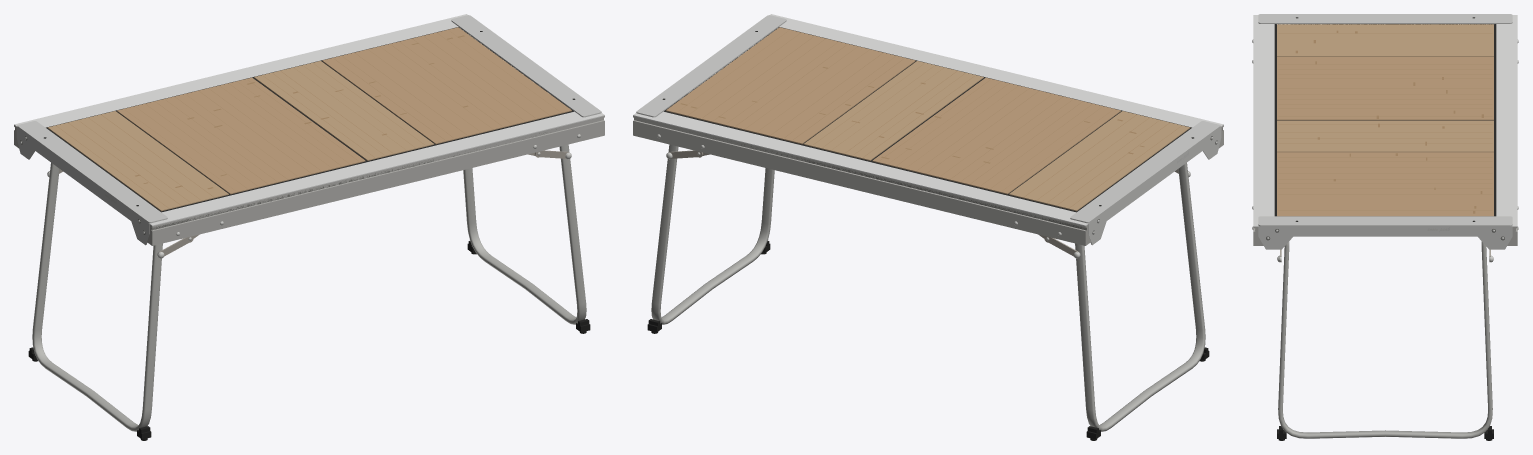
The model's file is snowpeak-entry-igt.glb.
3 views of the same model, side by side, from view 1: azimuth 30°, elevation 25°; view 2: azimuth 150°, elevation 25°; view 3: azimuth 270°, elevation 25° (orthographic). The views are drawn at different scales.
Visible parts, largest first — view 1: snowpeak-entry-igt-board, snowpeak-entry-igt-board_light, snowpeak-entry-igt-rail_top, snowpeak-entry-igt-rail, snowpeak-entry-igt-leg, snowpeak-entry-igt-plate, snowpeak-entry-igt-grain, snowpeak-entry-igt-hole, snowpeak-entry-igt-groove; view 2: snowpeak-entry-igt-board, snowpeak-entry-igt-board_light, snowpeak-entry-igt-rail_top, snowpeak-entry-igt-rail, snowpeak-entry-igt-leg, snowpeak-entry-igt-plate, snowpeak-entry-igt-grain, snowpeak-entry-igt-hole, snowpeak-entry-igt-groove; view 3: snowpeak-entry-igt-board, snowpeak-entry-igt-board_light, snowpeak-entry-igt-rail_top, snowpeak-entry-igt-plate, snowpeak-entry-igt-grain, snowpeak-entry-igt-leg, snowpeak-entry-igt-hole, snowpeak-entry-igt-rail.
Part boxes in pixels (bbox=[...]): snowpeak-entry-igt-board: bbox=[117, 27, 571, 194]; snowpeak-entry-igt-board_light: bbox=[47, 61, 434, 211]; snowpeak-entry-igt-rail_top: bbox=[14, 14, 604, 226]; snowpeak-entry-igt-rail: bbox=[14, 116, 604, 245]; snowpeak-entry-igt-leg: bbox=[32, 144, 586, 431]; snowpeak-entry-igt-plate: bbox=[16, 15, 601, 245]; snowpeak-entry-igt-grain: bbox=[56, 31, 559, 207]; snowpeak-entry-igt-hole: bbox=[44, 27, 575, 212]; snowpeak-entry-igt-groove: bbox=[15, 129, 556, 234]; snowpeak-entry-igt-board: bbox=[666, 27, 1120, 194]; snowpeak-entry-igt-board_light: bbox=[803, 61, 1190, 211]; snowpeak-entry-igt-rail_top: bbox=[633, 14, 1223, 226]; snowpeak-entry-igt-rail: bbox=[633, 116, 1223, 245]; snowpeak-entry-igt-leg: bbox=[651, 144, 1205, 431]; snowpeak-entry-igt-plate: bbox=[636, 15, 1221, 245]; snowpeak-entry-igt-grain: bbox=[678, 31, 1181, 207]; snowpeak-entry-igt-hole: bbox=[662, 27, 1193, 212]; snowpeak-entry-igt-groove: bbox=[713, 128, 1222, 234]; snowpeak-entry-igt-board: bbox=[1277, 56, 1493, 216]; snowpeak-entry-igt-board_light: bbox=[1277, 24, 1493, 152]; snowpeak-entry-igt-rail_top: bbox=[1253, 15, 1517, 226]; snowpeak-entry-igt-plate: bbox=[1258, 14, 1512, 249]; snowpeak-entry-igt-grain: bbox=[1278, 33, 1492, 210]; snowpeak-entry-igt-leg: bbox=[1278, 241, 1492, 438]; snowpeak-entry-igt-hole: bbox=[1274, 17, 1496, 221]; snowpeak-entry-igt-rail: bbox=[1253, 227, 1517, 245].
Bounding box in the file's own units: 0.8365 × 0.4002 × 0.4439.
